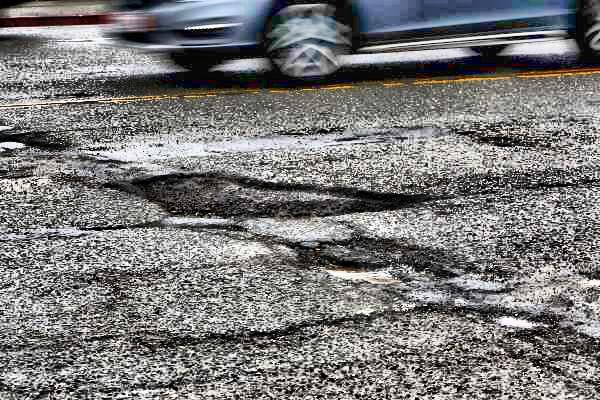pothole: (123, 164, 412, 226), (287, 232, 444, 297)
